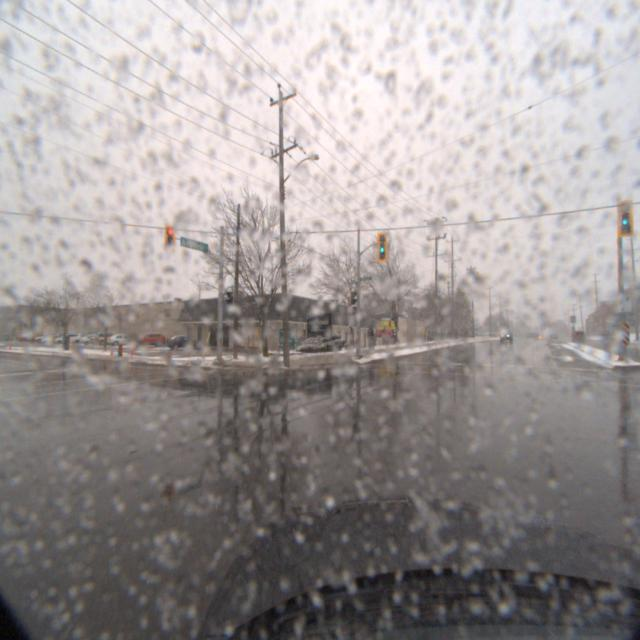Car: (167, 334, 207, 352), (132, 332, 172, 349), (109, 334, 144, 348)
